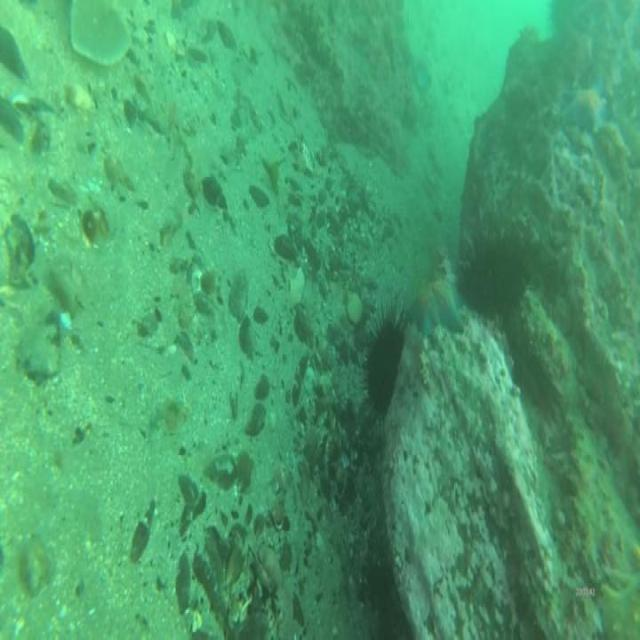echinus: (464, 246, 523, 312), (364, 320, 402, 416)
starfish: (412, 280, 463, 336), (562, 84, 610, 136)
